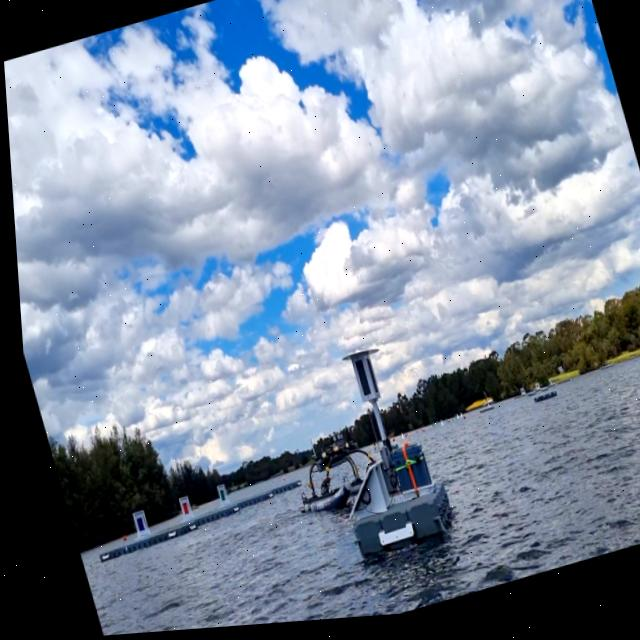led: (346, 360, 368, 403)
